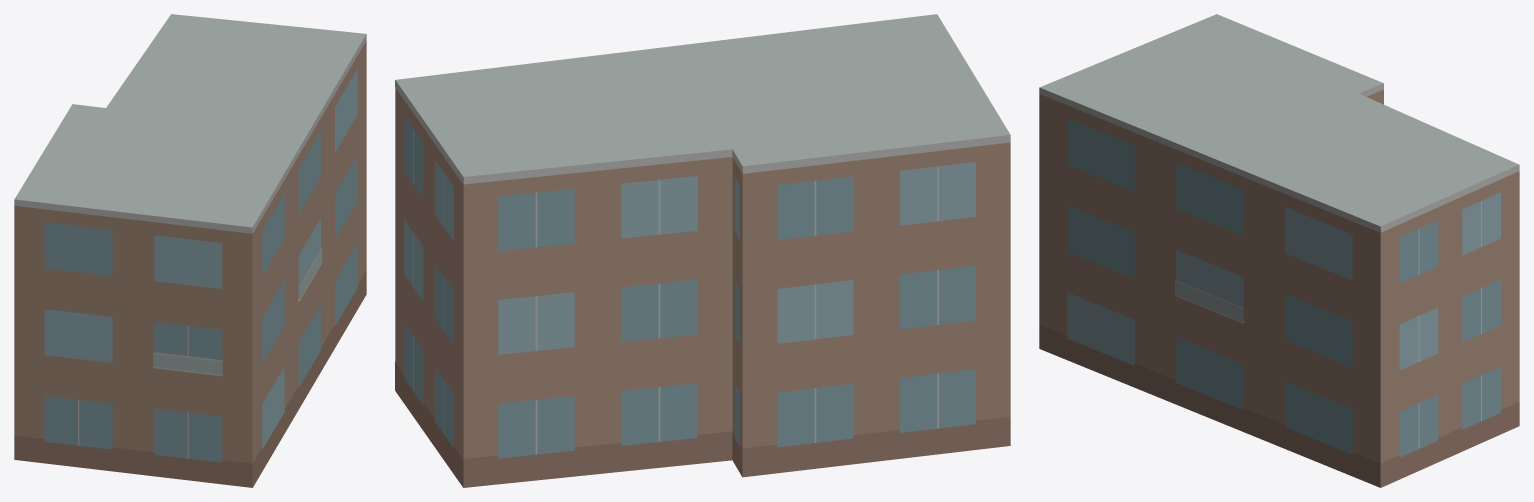
Rendered from survey-upis-32684536.glb.
The picture shows the model from 3 angles, left to right: view 1: azimuth 30°, elevation 25°; view 2: azimuth 150°, elevation 25°; view 3: azimuth 270°, elevation 25°; orthographic projection. The views are drawn at different scales.
Parts seen in each view (by area): view 1: survey-upis-32684536.tmp; view 2: survey-upis-32684536.tmp; view 3: survey-upis-32684536.tmp.
Part boxes in pixels (x1,y1,x2,y2): survey-upis-32684536.tmp: (14, 14, 366, 487); survey-upis-32684536.tmp: (395, 14, 1010, 487); survey-upis-32684536.tmp: (1039, 14, 1519, 487).
Bounding box in the file's own units: 17.62 × 10.1 × 16.82.
